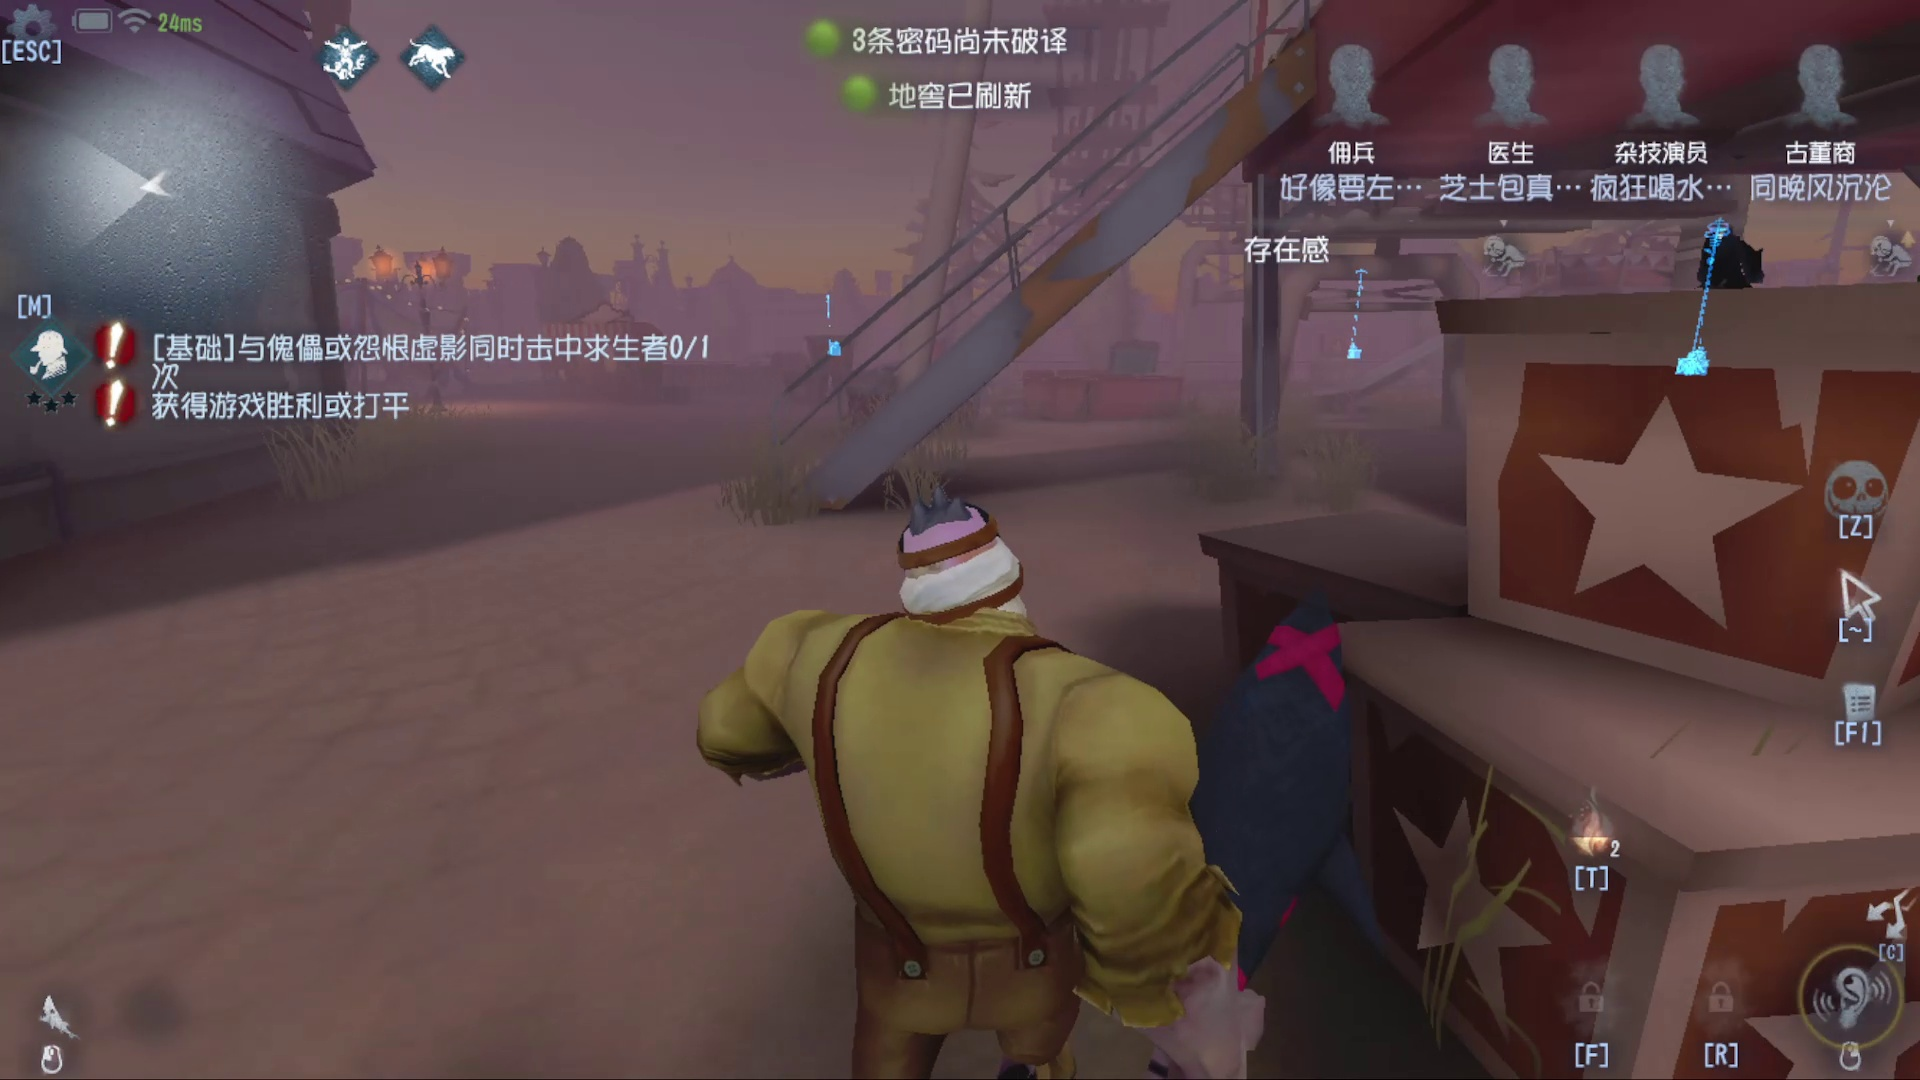密码机: (1662, 223, 1750, 389), (1333, 248, 1381, 385), (807, 266, 858, 371)
木板: (1102, 328, 1178, 385)
